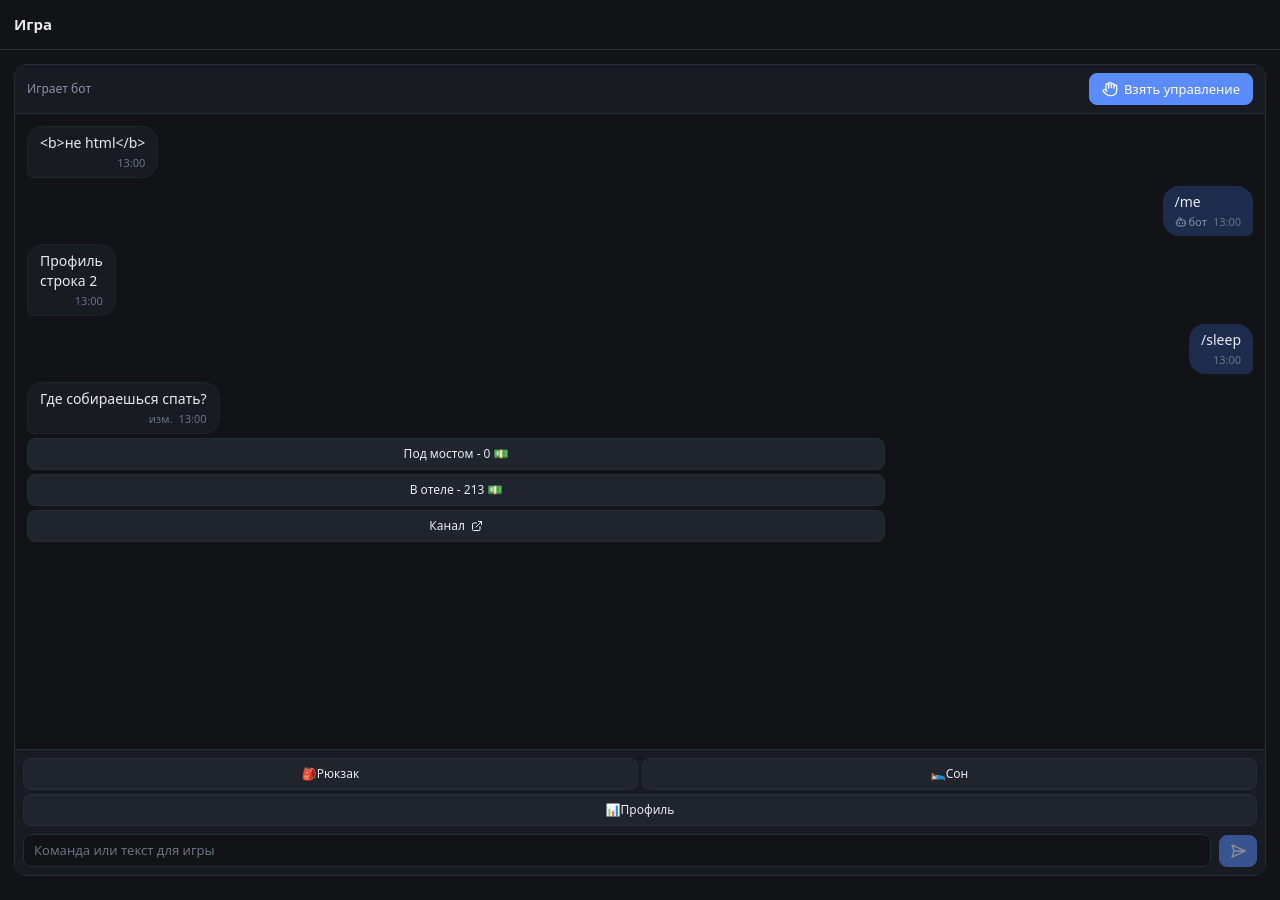
Scenario: Игра: ручное управление › взять — POST on:true и срок; вернуть — POST on:false; после каждого — статус заново
The image size is (1280, 900).
Step 1. Click the button "Взять управление" → (1171, 89), box [1089, 73, 1253, 105]
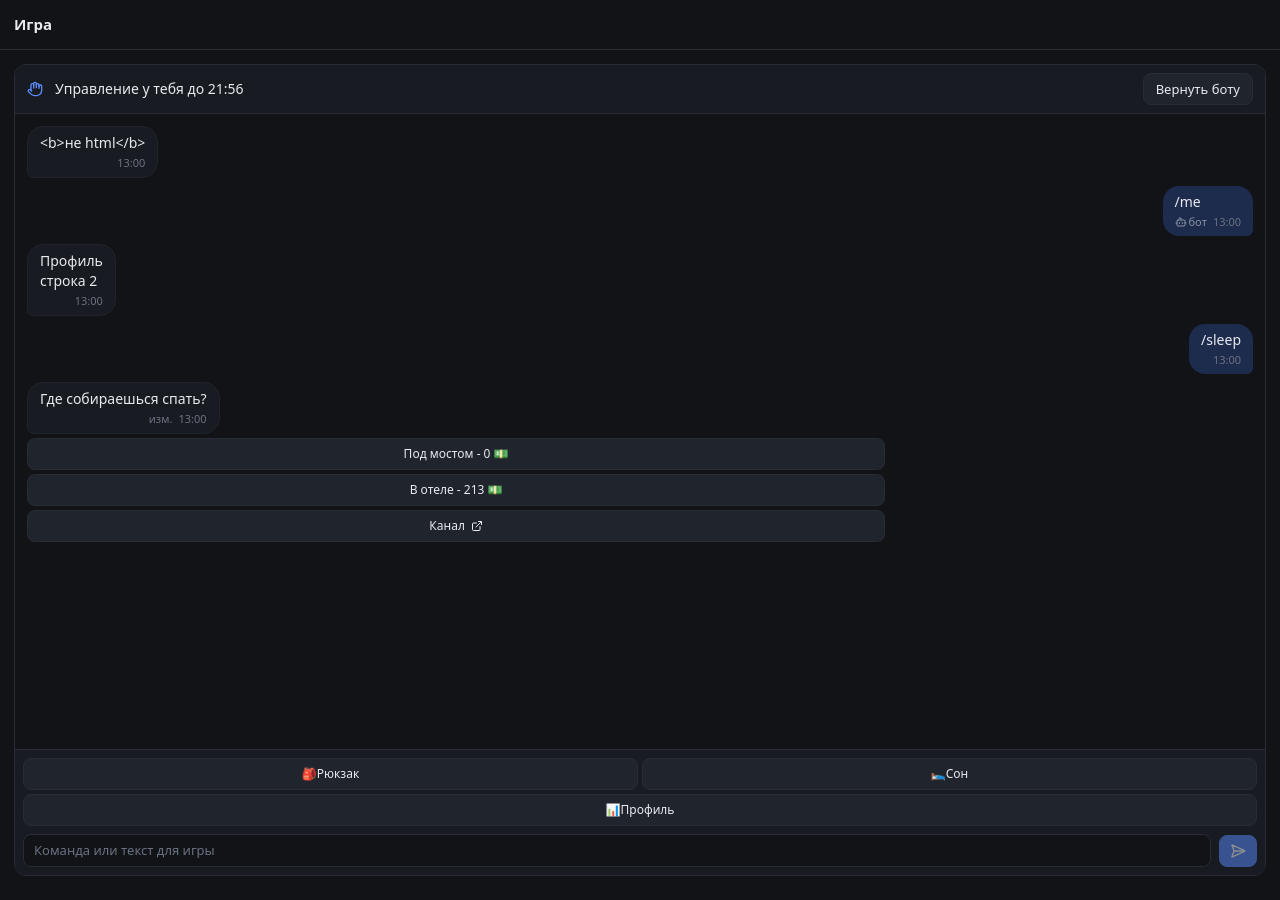
Step 2. Click the button "Вернуть боту" → (1198, 89), box [1143, 73, 1253, 105]
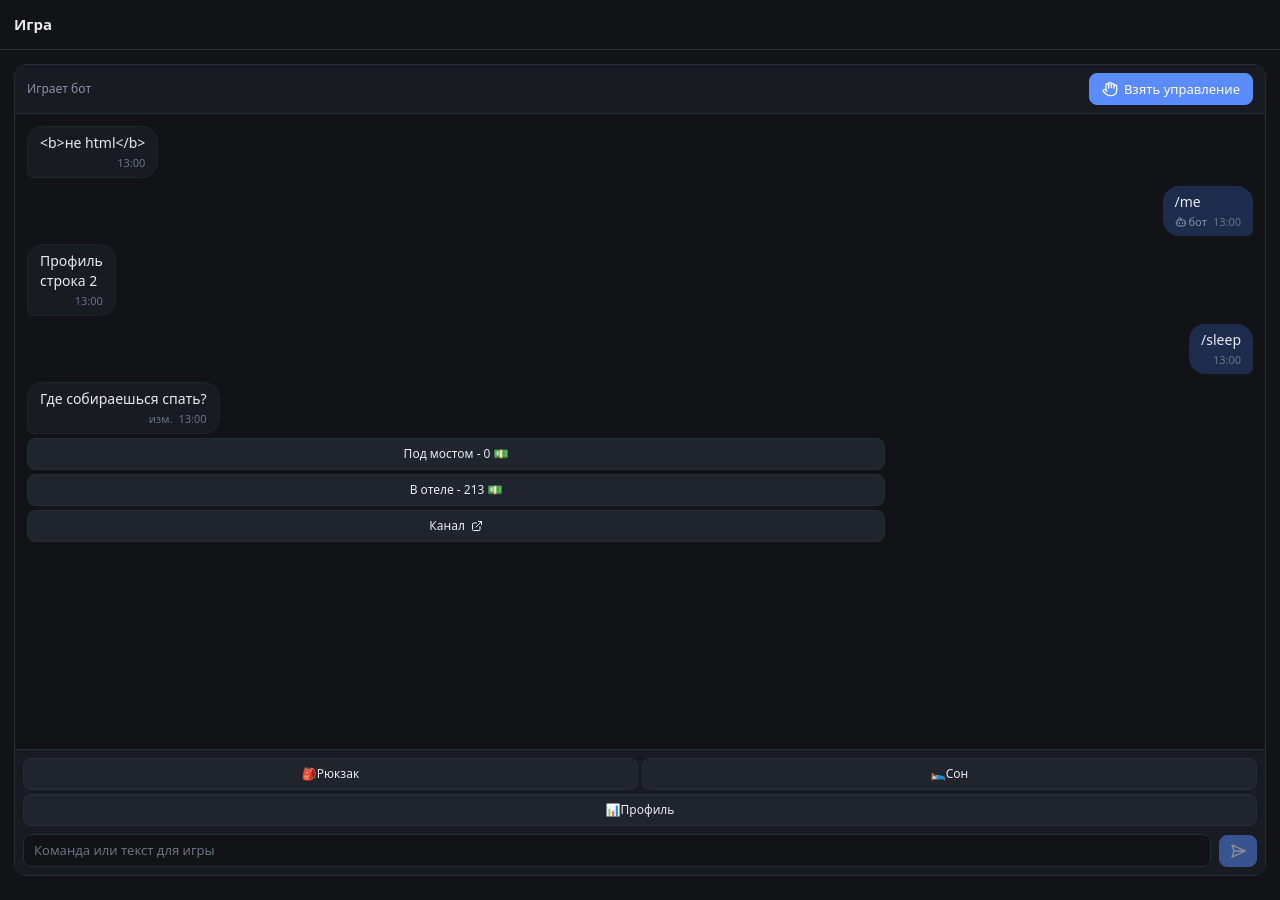
Result: the button "Взять управление" is shown at [1089, 73, 1253, 105]
